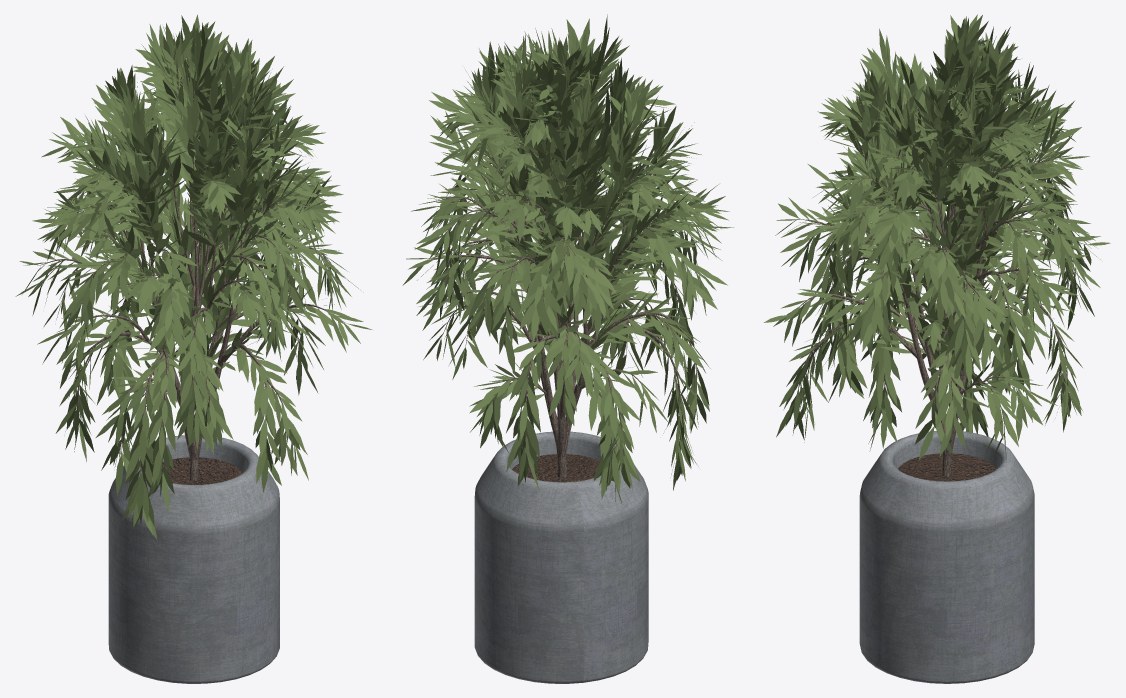
File: PottedTree.fbx
3 renders of one model, left to right at view 1: azimuth 30°, elevation 25°; view 2: azimuth 150°, elevation 25°; view 3: azimuth 270°, elevation 25°, orthographic.
Visible parts, largest first — view 1: Cylinder, tree; view 2: Cylinder, tree; view 3: Cylinder, tree.
Boxes of the visible parts, x1,y1,x2,y2 form: Cylinder: (15,14,372,683); tree: (39,66,345,480); Cylinder: (402,14,733,683); tree: (430,62,702,501); Cylinder: (764,14,1110,683); tree: (797,71,1086,476).
Bounding box in the file's own units: 399 × 380 × 792.
